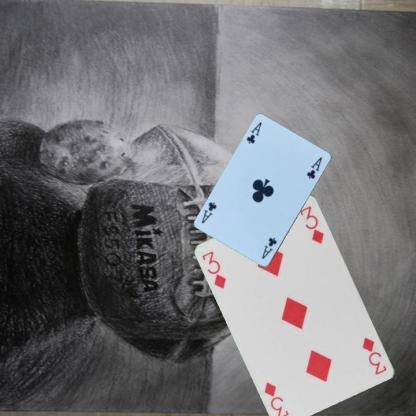3d: (199, 248, 228, 290), (360, 335, 388, 376)
Ac: (244, 119, 263, 146), (260, 235, 278, 261)
